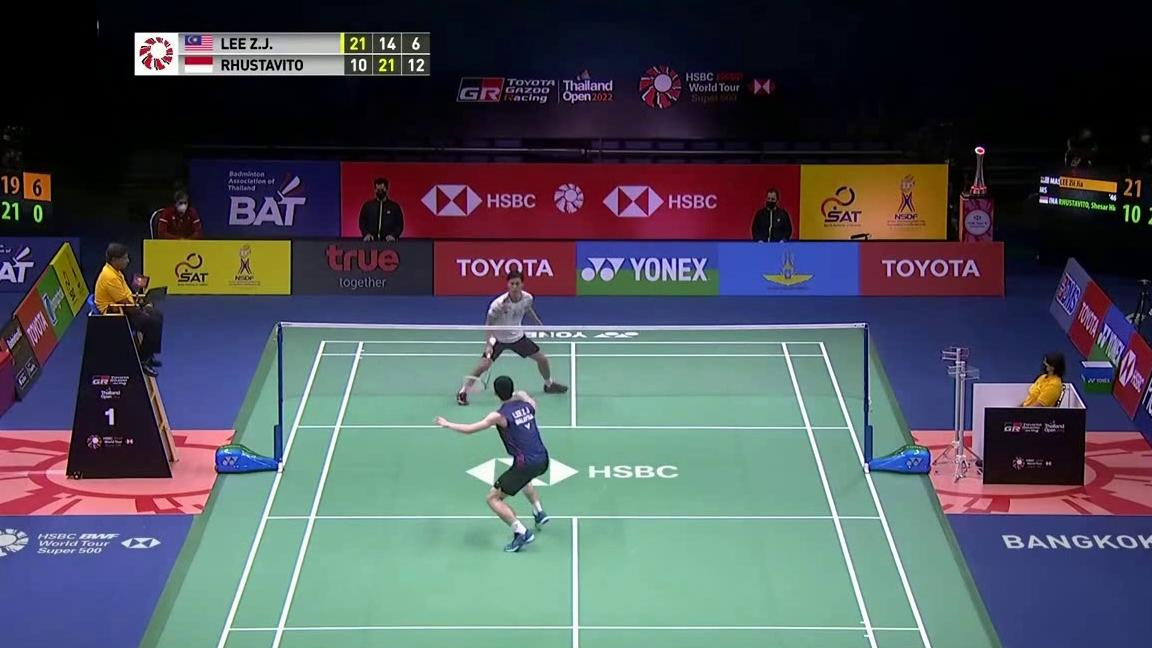racket: (461, 374, 521, 398), (467, 352, 495, 394)
shuttle: (488, 336, 498, 346)
